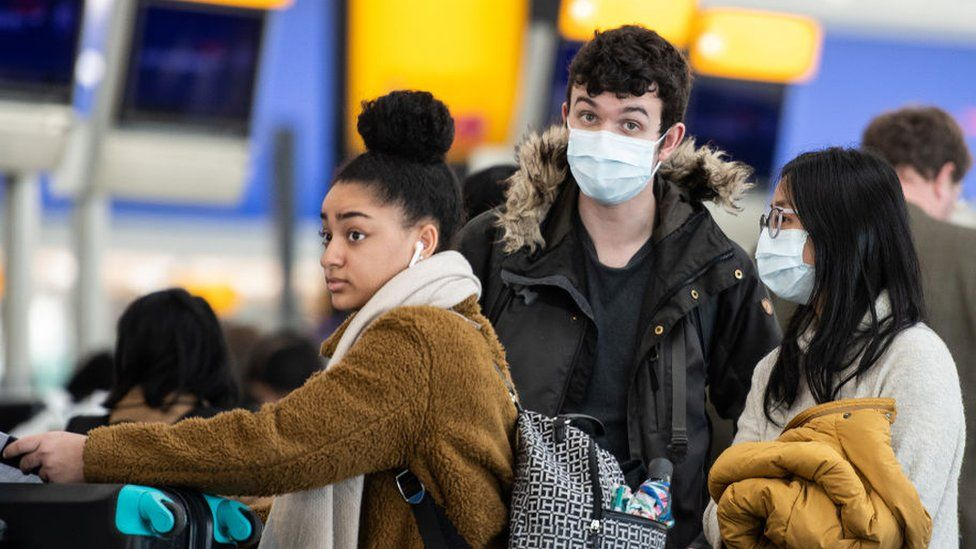with_mask: (574, 89, 656, 198), (754, 211, 800, 301)
without_mask: (319, 206, 398, 306)
